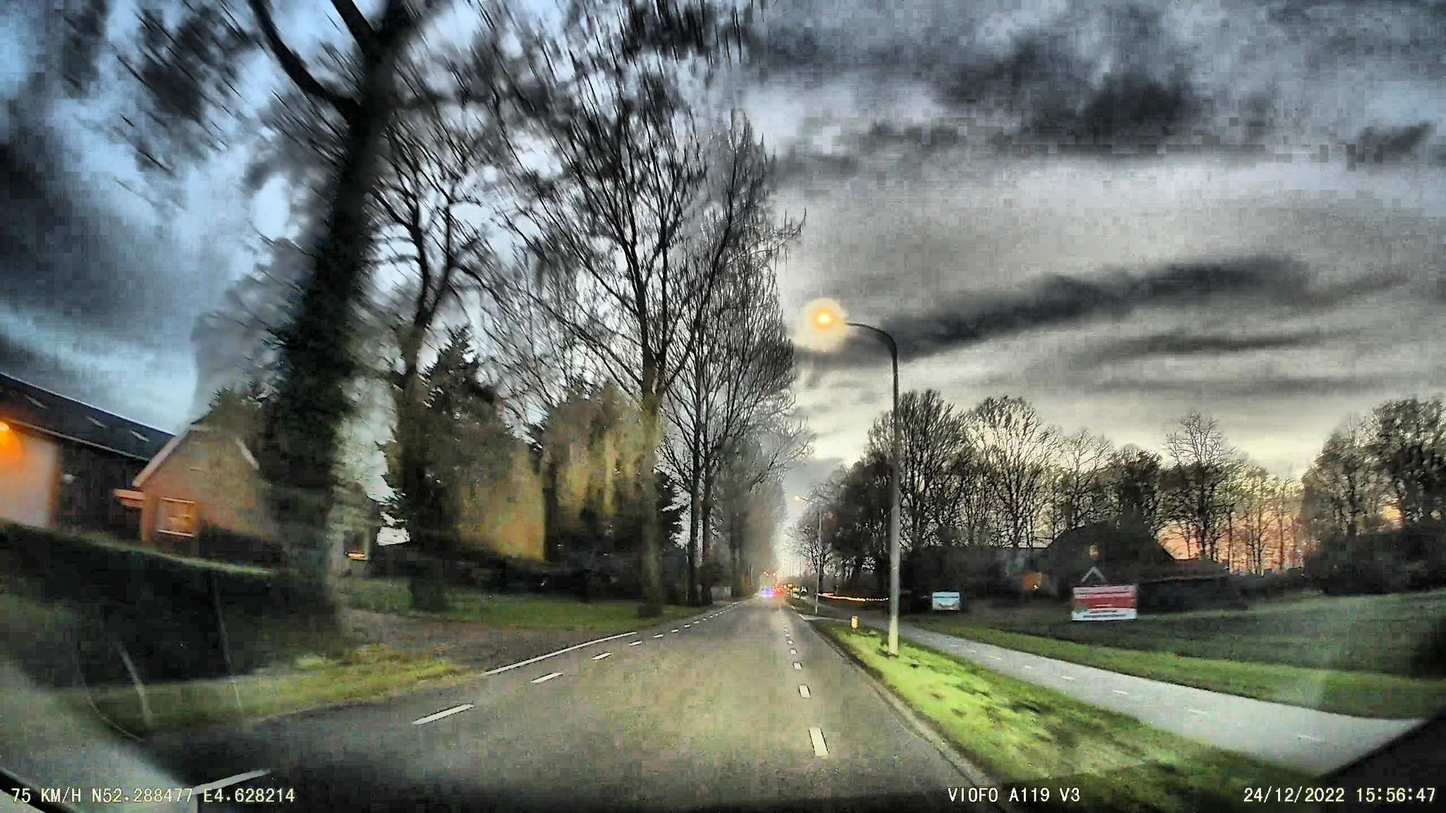Roads: (20, 597, 979, 813)
